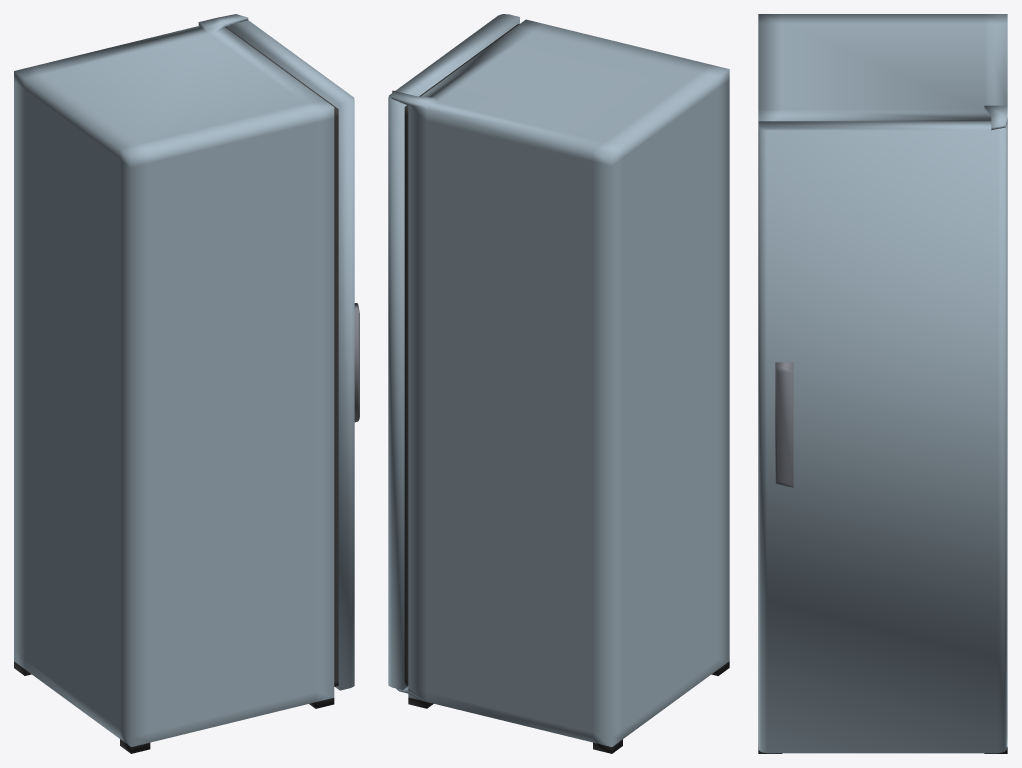
The model's file is fridge.fbx.
3 views of the same model, side by side, from view 1: azimuth 30°, elevation 25°; view 2: azimuth 150°, elevation 25°; view 3: azimuth 270°, elevation 25° (orthographic). The views are drawn at different scales.
Parts seen in each view (by area): view 1: Fridge, FridgeDoor; view 2: Fridge, FridgeDoor; view 3: FridgeDoor, Fridge.
Boxes of the visible parts, x1=… form: Fridge: x1=14, y1=14, x2=334, y2=753; FridgeDoor: x1=225, y1=20, x2=359, y2=690; Fridge: x1=391, y1=19, x2=729, y2=753; FridgeDoor: x1=388, y1=14, x2=519, y2=689; FridgeDoor: x1=758, y1=121, x2=1006, y2=753; Fridge: x1=758, y1=14, x2=1007, y2=753.
Bounding box in the file's own units: 46.95 × 111 × 39.09.
